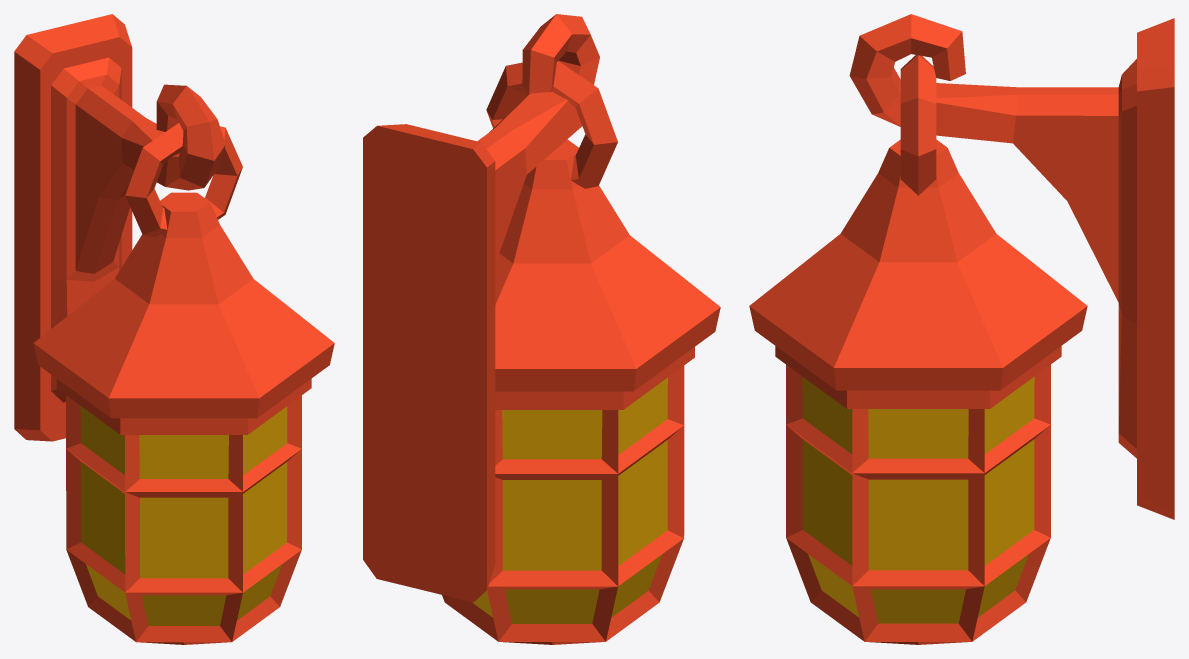
The model's file is SM_Lamp_Wall_A_City.fbx.
3 renders of one model, left to right at view 1: azimuth 30°, elevation 25°; view 2: azimuth 150°, elevation 25°; view 3: azimuth 270°, elevation 25°, orthographic. The views are drawn at different scales.
Parts seen in each view (by area): view 1: SM_Lamp_Wall_A_City; view 2: SM_Lamp_Wall_A_City; view 3: SM_Lamp_Wall_A_City.
Boxes of the visible parts, <box> form: SM_Lamp_Wall_A_City: <box>14,14,334,644</box>; SM_Lamp_Wall_A_City: <box>363,14,720,644</box>; SM_Lamp_Wall_A_City: <box>749,14,1174,644</box>.
Size of the model in its own units: 35.39 by 24.38 by 57.9.
